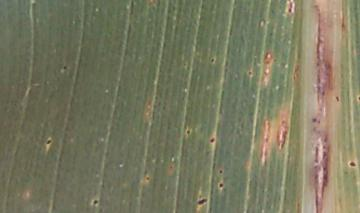tarspot: (194, 194, 211, 209), (141, 173, 155, 185), (207, 134, 219, 147), (331, 93, 343, 106), (244, 68, 257, 80), (89, 196, 103, 207), (286, 1, 296, 16), (43, 136, 55, 148), (346, 158, 358, 170), (214, 166, 227, 177), (308, 114, 319, 127), (215, 180, 227, 191), (183, 126, 194, 138), (208, 55, 218, 66), (59, 63, 69, 72)
